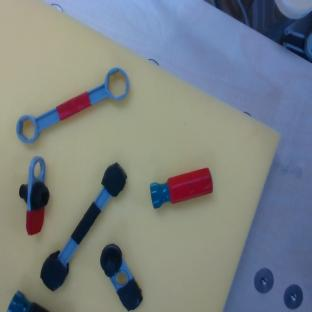part_1_bad: (94, 241, 148, 312)
part_1_good: (15, 155, 53, 236)
part_2_bad: (7, 291, 49, 311)
part_2_good: (147, 166, 216, 209)
part_3_bad: (35, 159, 133, 293)
part_3_good: (9, 64, 135, 147)
